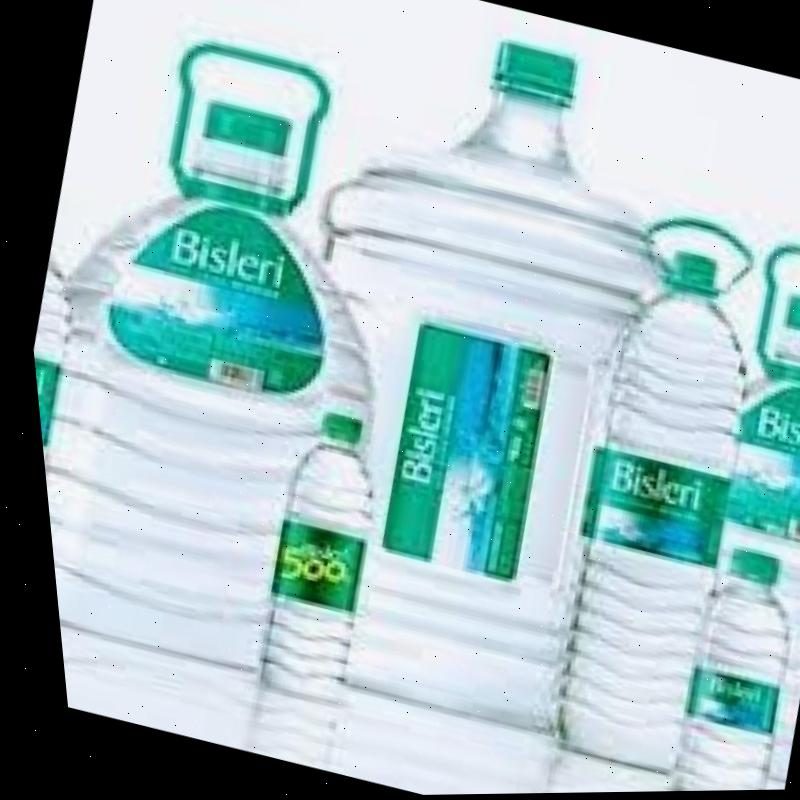botella: (491, 239, 796, 779), (216, 404, 403, 711), (633, 543, 800, 793), (20, 259, 104, 626)
